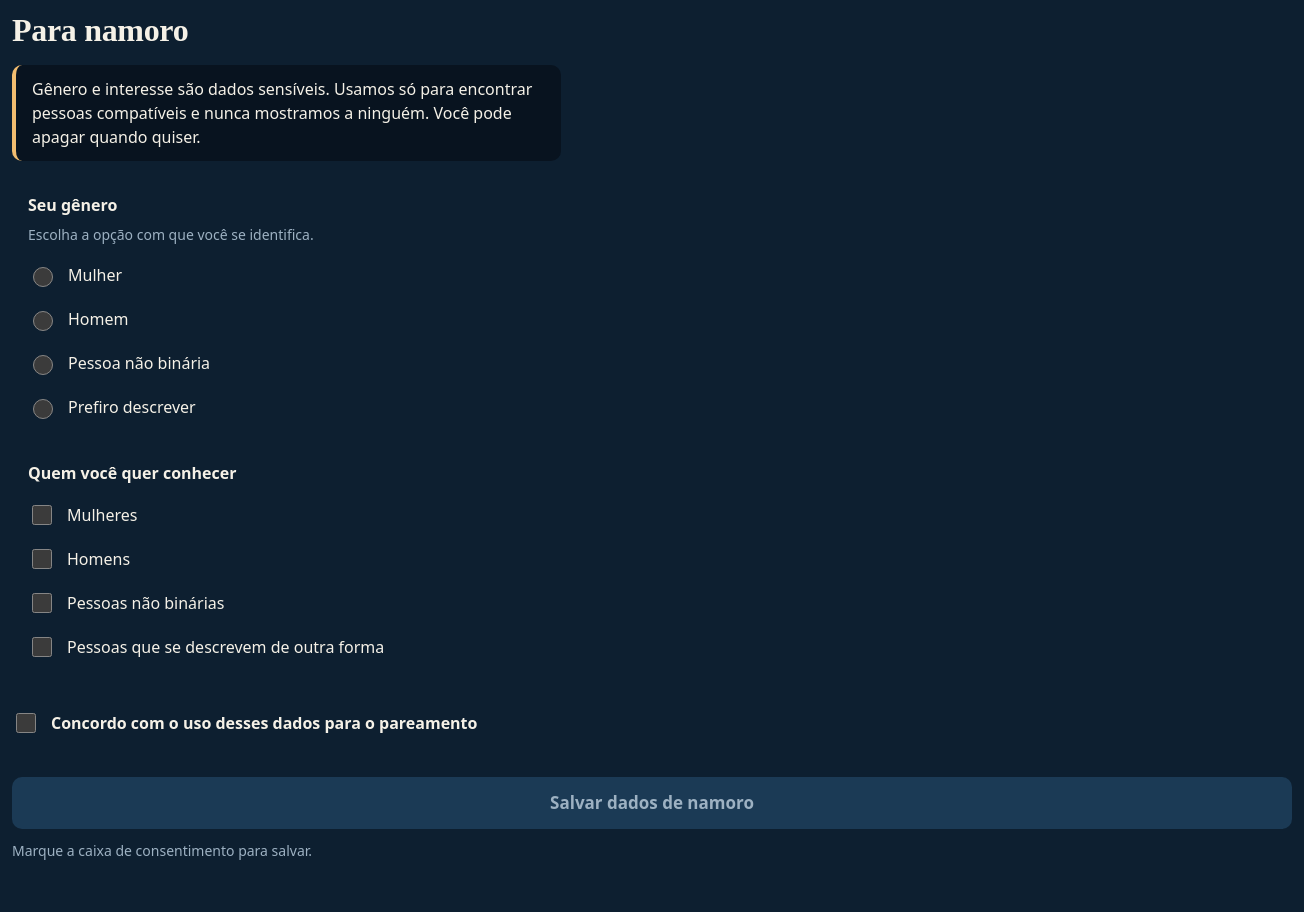
Namoro › validacaoAntesDoEnvio
Click the checkbox labelled "Concordo com o uso desses dados para o pareamento" at (26, 723), box [16,713,36,733]
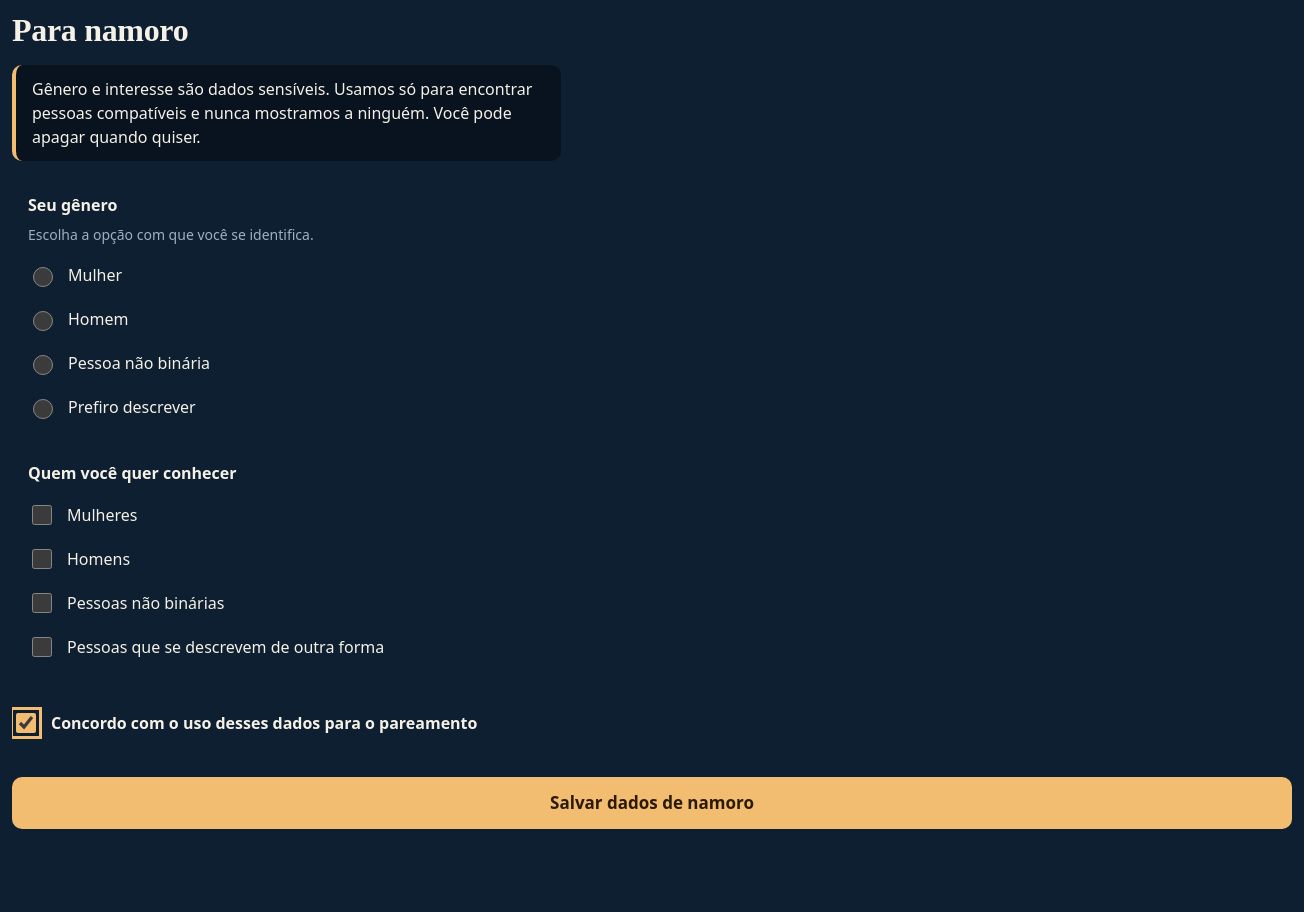
Click the button "Salvar dados de namoro" at (652, 803), box [12,777,1292,829]
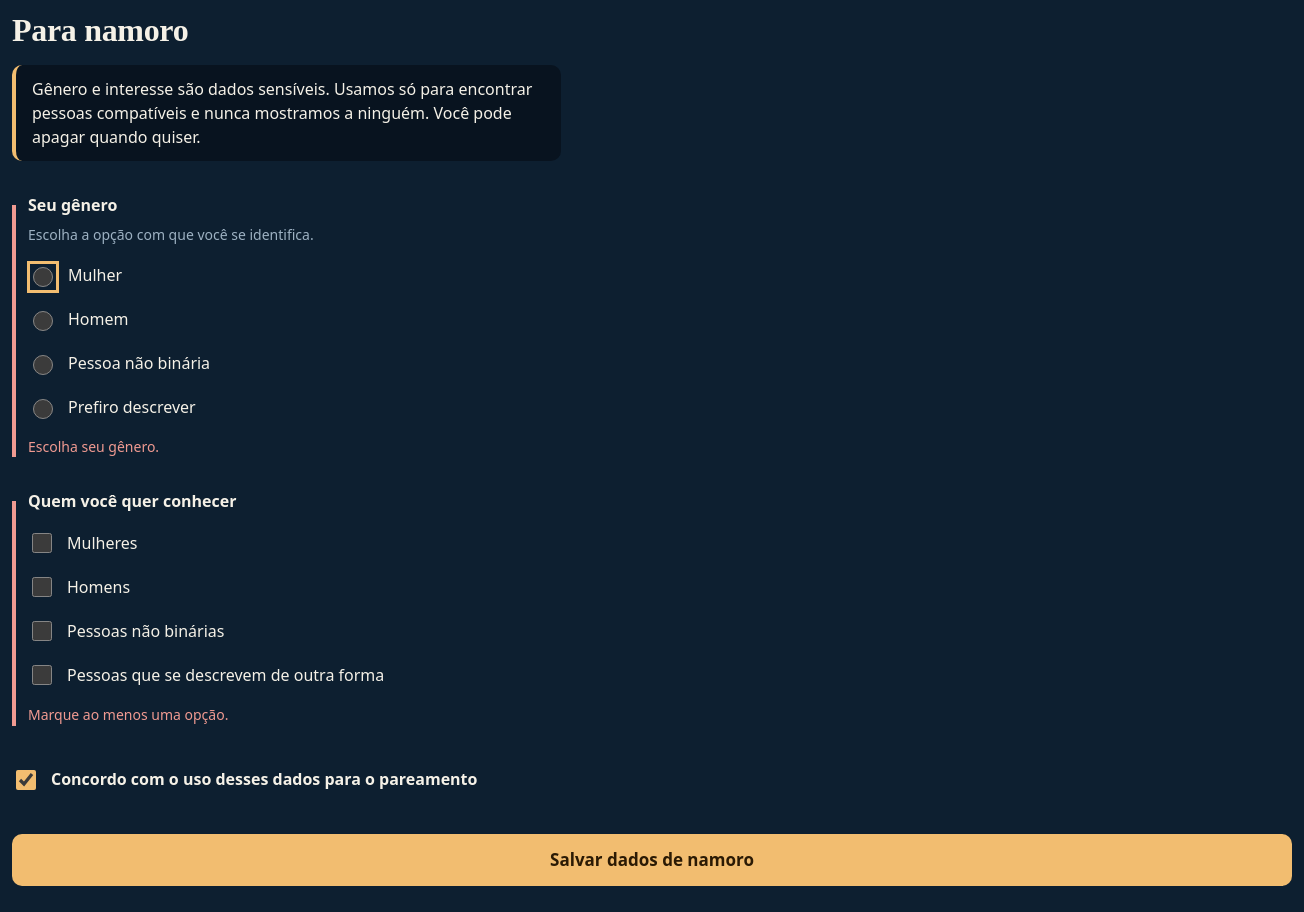
Expected: the text "Escolha seu gênero." is shown, [28,437,159,456]
Expected: the text "Marque ao menos uma opção." is shown, [28,705,228,724]
